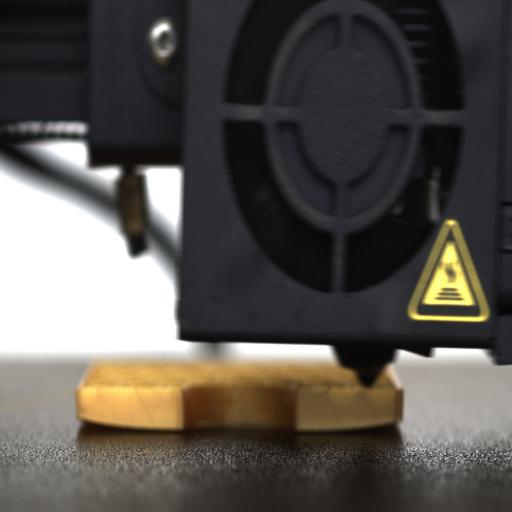warp: (357, 404, 408, 442), (72, 402, 112, 436)
